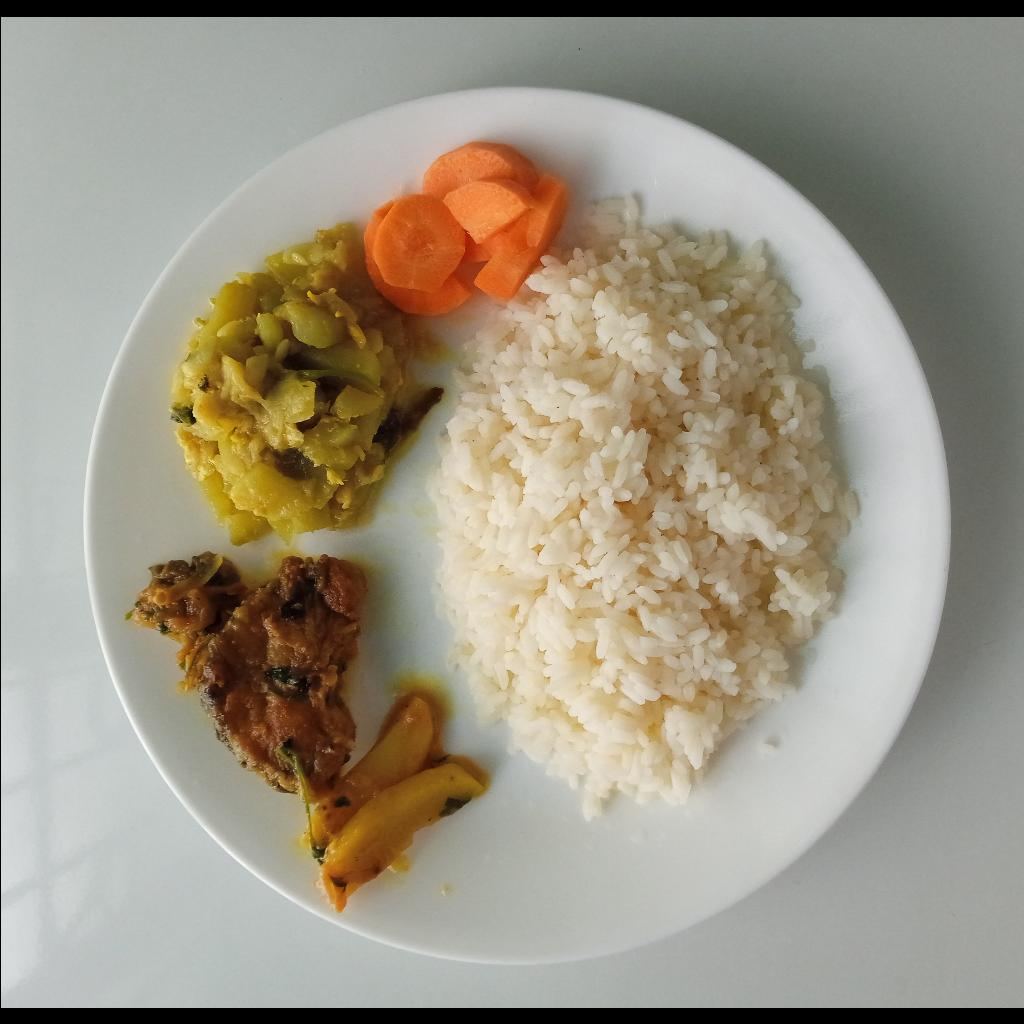carrot: (362, 141, 566, 315)
fish: (132, 550, 368, 805)
lau: (169, 219, 445, 546)
potato: (301, 691, 487, 913)
rice: (427, 196, 858, 822)
